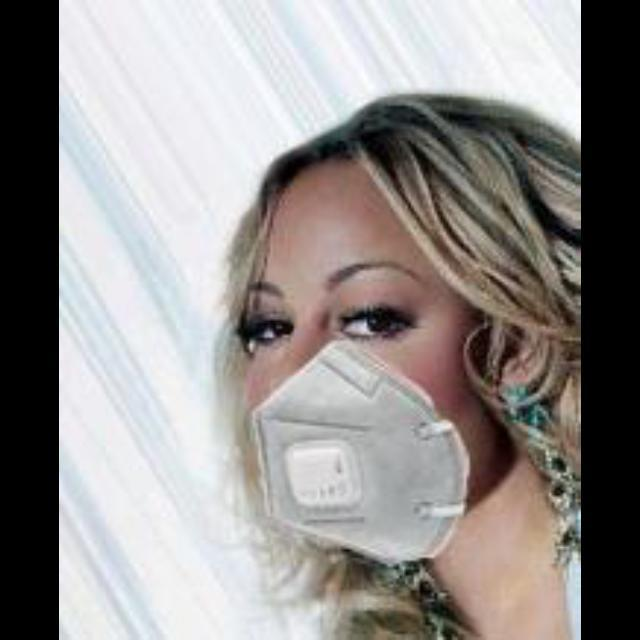suspicion: (225, 162, 503, 554)
